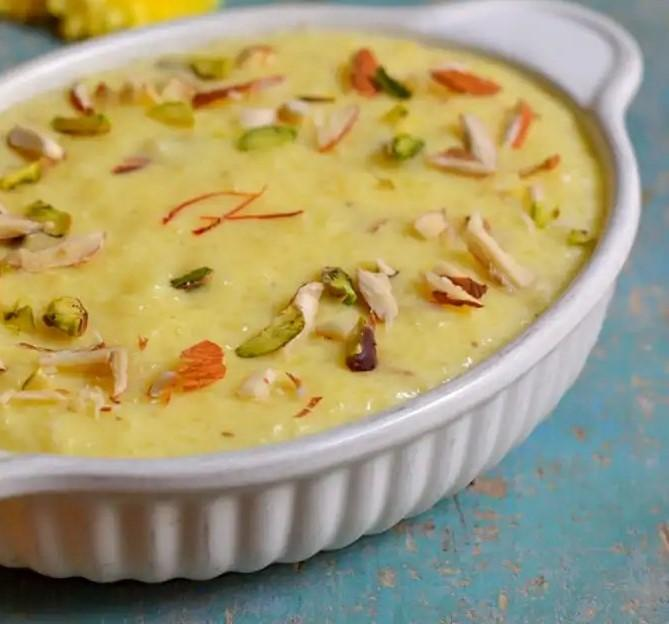RasMalai: (0, 29, 607, 458)
